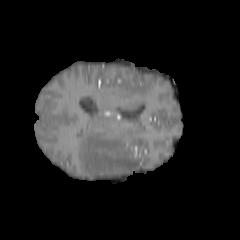glioma: (76, 128, 141, 177)
